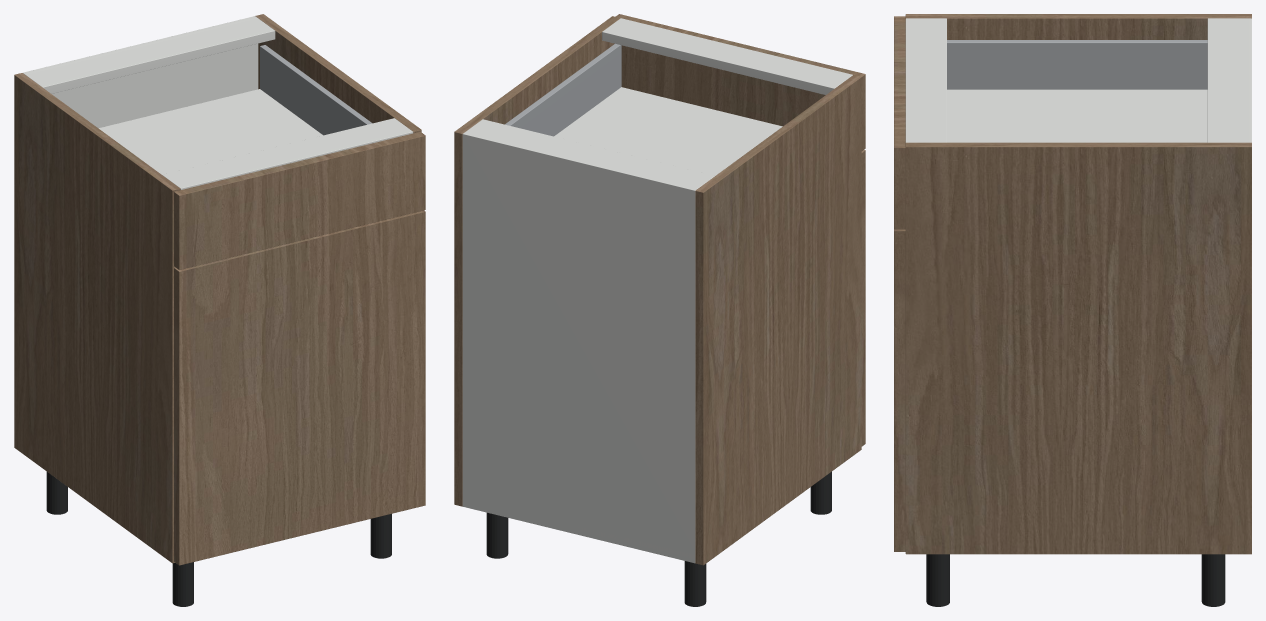
File: oppein-pb-mnw-b21.glb
3 views of the same model, side by side, from view 1: azimuth 30°, elevation 25°; view 2: azimuth 150°, elevation 25°; view 3: azimuth 270°, elevation 25° (orthographic). The views are drawn at different scales.
Parts seen in each view (by area): view 1: Door, Cabinet side, Drawer front, Drawer floor, Cabinet back, Top support rail, Top support rail.001, Drawer side.001, Cabinet side.001, Adjustable foot.001, Adjustable foot.003, Adjustable foot; view 2: Cabinet back, Cabinet side, Drawer floor, Drawer front, Cabinet side.001, Top support rail.001, Drawer side.001, Top support rail, Door, Adjustable foot, Adjustable foot.002, Adjustable foot.001; view 3: Cabinet side.001, Drawer floor, Drawer side, Cabinet side, Top support rail.001, Top support rail, Door, Drawer front, Adjustable foot.002, Adjustable foot.003, Cabinet back.
Boxes of the visible parts, left/top/right/bottom form: Door: left=174, top=210, right=425, bottom=565; Cabinet side: left=14, top=73, right=180, bottom=563; Drawer front: left=174, top=131, right=425, bottom=269; Drawer floor: left=99, top=89, right=322, bottom=174; Cabinet back: left=23, top=16, right=258, bottom=128; Top support rail: left=24, top=18, right=275, bottom=93; Top support rail.001: left=162, top=118, right=413, bottom=189; Drawer side.001: left=260, top=45, right=372, bottom=135; Cabinet side.001: left=255, top=14, right=421, bottom=133; Adjustable foot.001: left=172, top=562, right=193, bottom=606; Adjustable foot.003: left=370, top=514, right=391, bottom=558; Adjustable foot: left=46, top=472, right=67, bottom=514; Cabinet back: left=462, top=132, right=697, bottom=563; Cabinet side: left=695, top=75, right=861, bottom=565; Drawer floor: left=554, top=87, right=782, bottom=175; Drawer front: left=615, top=14, right=865, bottom=150; Cabinet side.001: left=454, top=16, right=620, bottom=506; Top support rail.001: left=602, top=18, right=852, bottom=94; Drawer side.001: left=505, top=43, right=621, bottom=136; Top support rail: left=466, top=119, right=714, bottom=188; Door: left=861, top=150, right=865, bottom=446; Adjustable foot: left=684, top=561, right=706, bottom=606; Adjustable foot.002: left=486, top=512, right=508, bottom=558; Adjustable foot.001: left=810, top=471, right=831, bottom=514; Cabinet side.001: left=905, top=142, right=1251, bottom=554; Drawer floor: left=947, top=89, right=1207, bottom=142; Drawer side: left=947, top=40, right=1207, bottom=89; Cabinet side: left=905, top=14, right=1251, bottom=39; Top support rail.001: left=905, top=18, right=946, bottom=142; Top support rail: left=1207, top=18, right=1245, bottom=142; Door: left=894, top=229, right=905, bottom=551; Drawer front: left=894, top=16, right=905, bottom=229; Adjustable foot.002: left=1201, top=554, right=1225, bottom=606; Adjustable foot.003: left=926, top=554, right=949, bottom=606; Cabinet back: left=1245, top=18, right=1251, bottom=142.
Bounding box in the file's own units: 0.5334 × 0.8763 × 0.6064.
4 materials, 1 textured.
